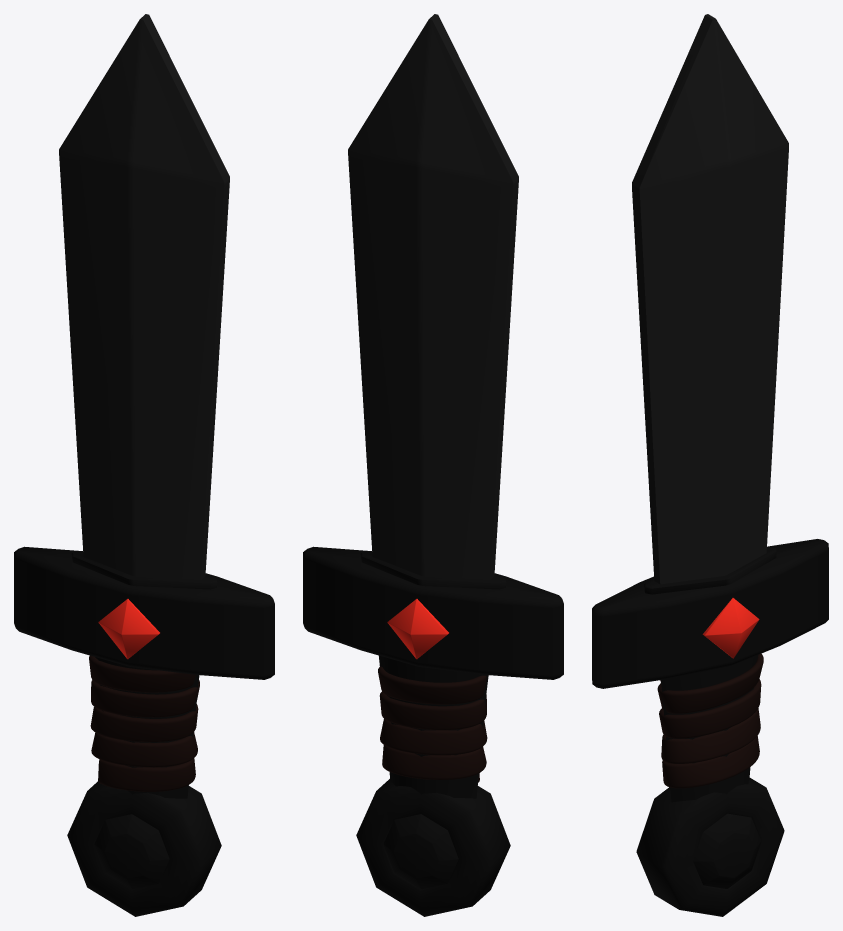
3 views of the same model, side by side, from view 1: azimuth 30°, elevation 25°; view 2: azimuth 210°, elevation 25°; view 3: azimuth 270°, elevation 25° (orthographic).
Visible parts, largest first — view 1: blade, guard, Handle_wrap, handle_end, Ruby_1, Diamond_2, insert, handle; view 2: blade, guard, handle_end, Handle_wrap, Ruby_2, handle, Diamond_1, insert; view 3: blade, guard, handle_end, Handle_wrap, Ruby_2, handle, Diamond_1, insert.
Boxes of the visible parts, box(x1,y1,x2,y2) form: blade: box(59, 14, 229, 580); guard: box(14, 546, 274, 679); Handle_wrap: box(89, 655, 199, 791); handle_end: box(67, 781, 221, 916); Ruby_1: box(94, 814, 169, 889); Diamond_2: box(98, 599, 159, 659); insert: box(71, 551, 217, 589); handle: box(95, 657, 199, 798); blade: box(348, 14, 518, 580); guard: box(303, 546, 563, 679); handle_end: box(356, 779, 510, 916); Handle_wrap: box(378, 666, 488, 782); Ruby_2: box(383, 814, 458, 889); handle: box(379, 655, 488, 798); Diamond_1: box(387, 599, 448, 659); insert: box(360, 551, 506, 589); blade: box(632, 14, 788, 584); guard: box(592, 539, 828, 688); handle_end: box(636, 778, 784, 916); Handle_wrap: box(657, 653, 763, 788); Ruby_2: box(693, 813, 761, 888); handle: box(661, 655, 758, 802); Diamond_1: box(702, 598, 759, 658); insert: box(644, 547, 776, 594).
Size of the model in its own units: 17.02 by 23.15 by 96.29.
